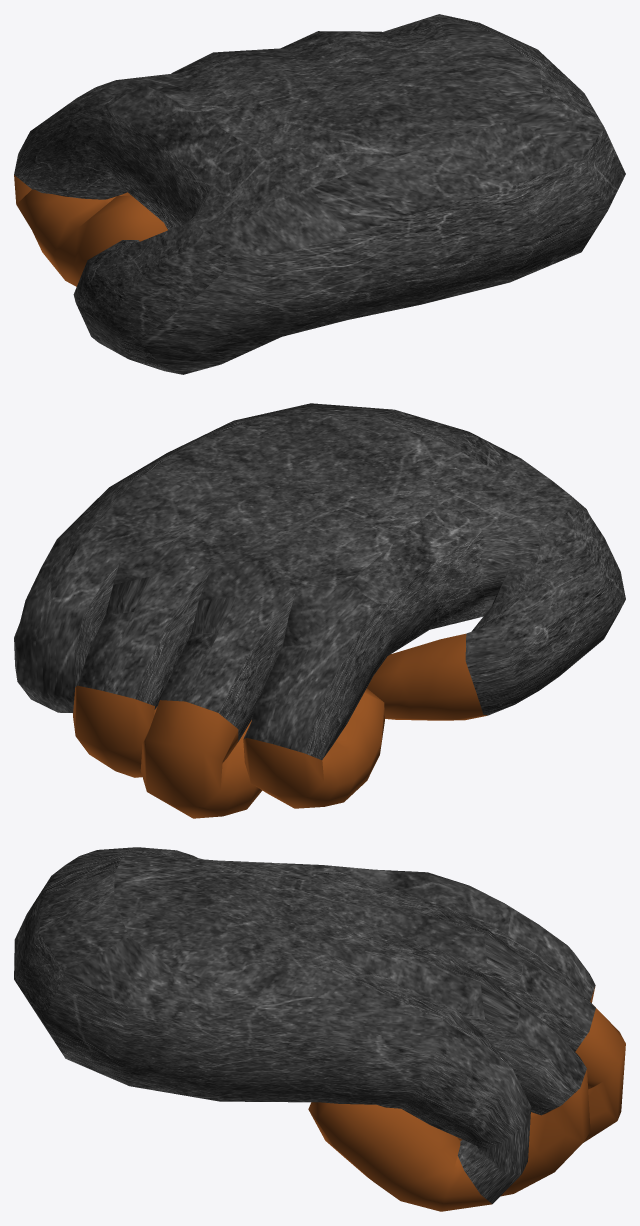
The model's file is hand2R.obj.
3 views of the same model, one above another, from view 1: azimuth 30°, elevation 25°; view 2: azimuth 150°, elevation 25°; view 3: azimuth 270°, elevation 25° (orthographic). The views are drawn at different scales.
Visible parts, largest first — view 1: 立方体.001; view 2: 立方体.001; view 3: 立方体.001.
Boxes of the visible parts, box(x1,y1,x2,y2) form: 立方体.001: box(14, 14, 625, 374); 立方体.001: box(14, 403, 625, 818); 立方体.001: box(14, 847, 625, 1211).
Bounding box in the file's own units: 1.55 × 0.8137 × 1.7.
